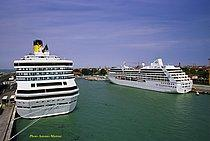Ship: (9, 37, 87, 120), (107, 55, 198, 100)
